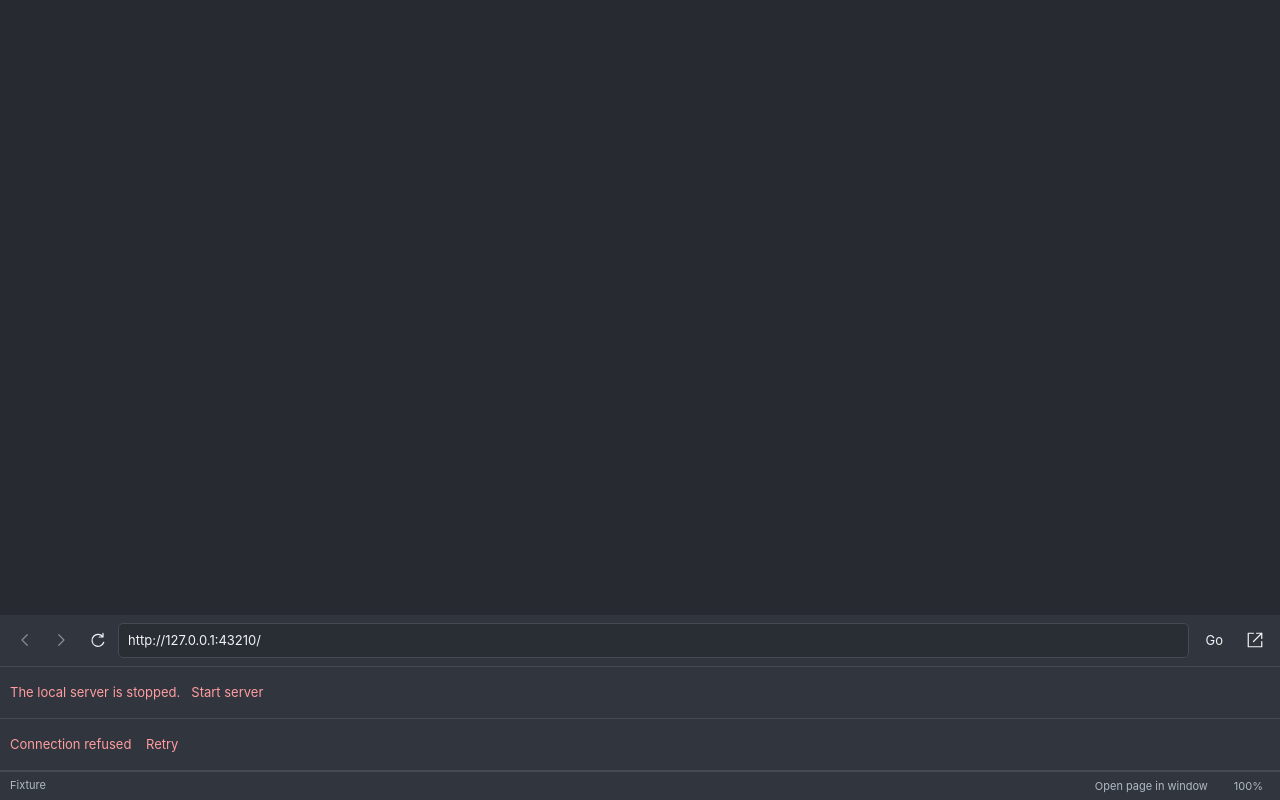
recovers a stopped server at the same address and clears the obsolete browser failure
Check: the text "Connection refused" is shown, box [10, 736, 131, 752]
Click the button "Start server". click: (227, 692)
box: [180, 677, 274, 708]
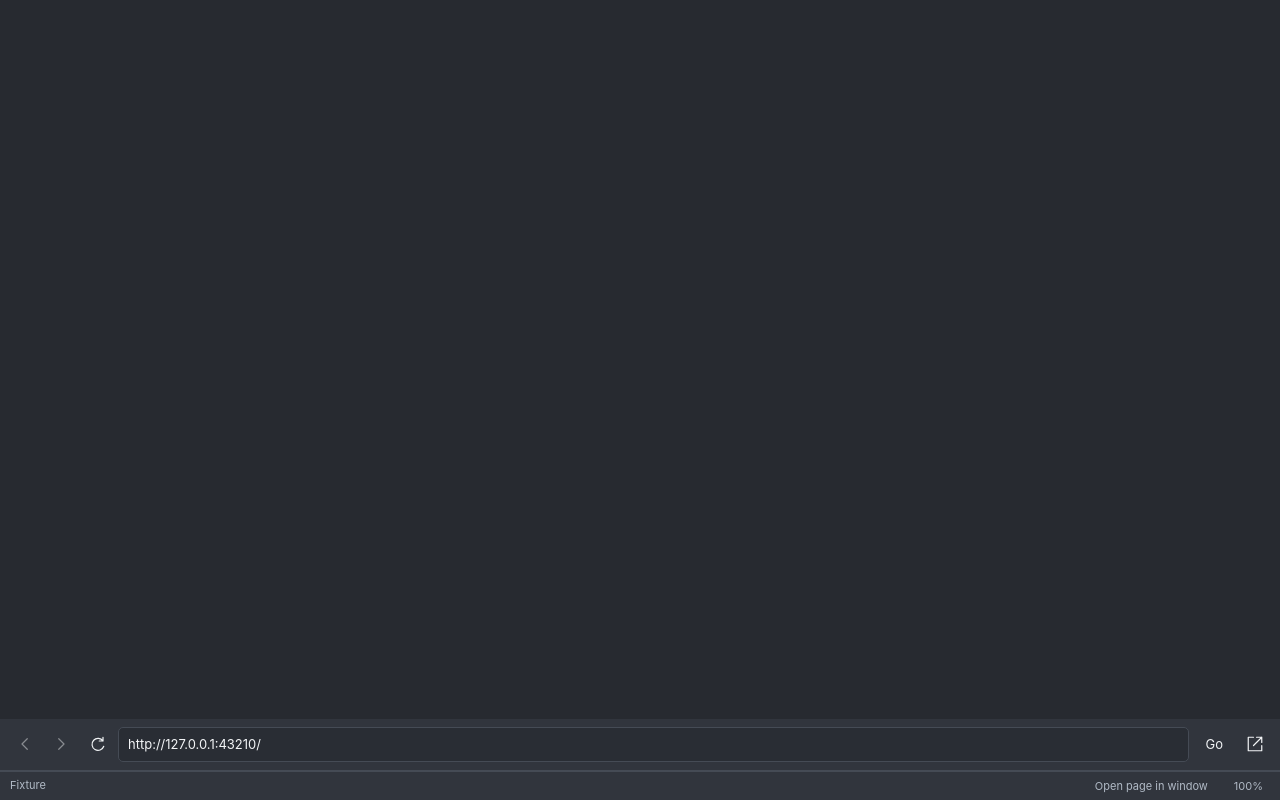
Check: the text "Connection refused" is gone
